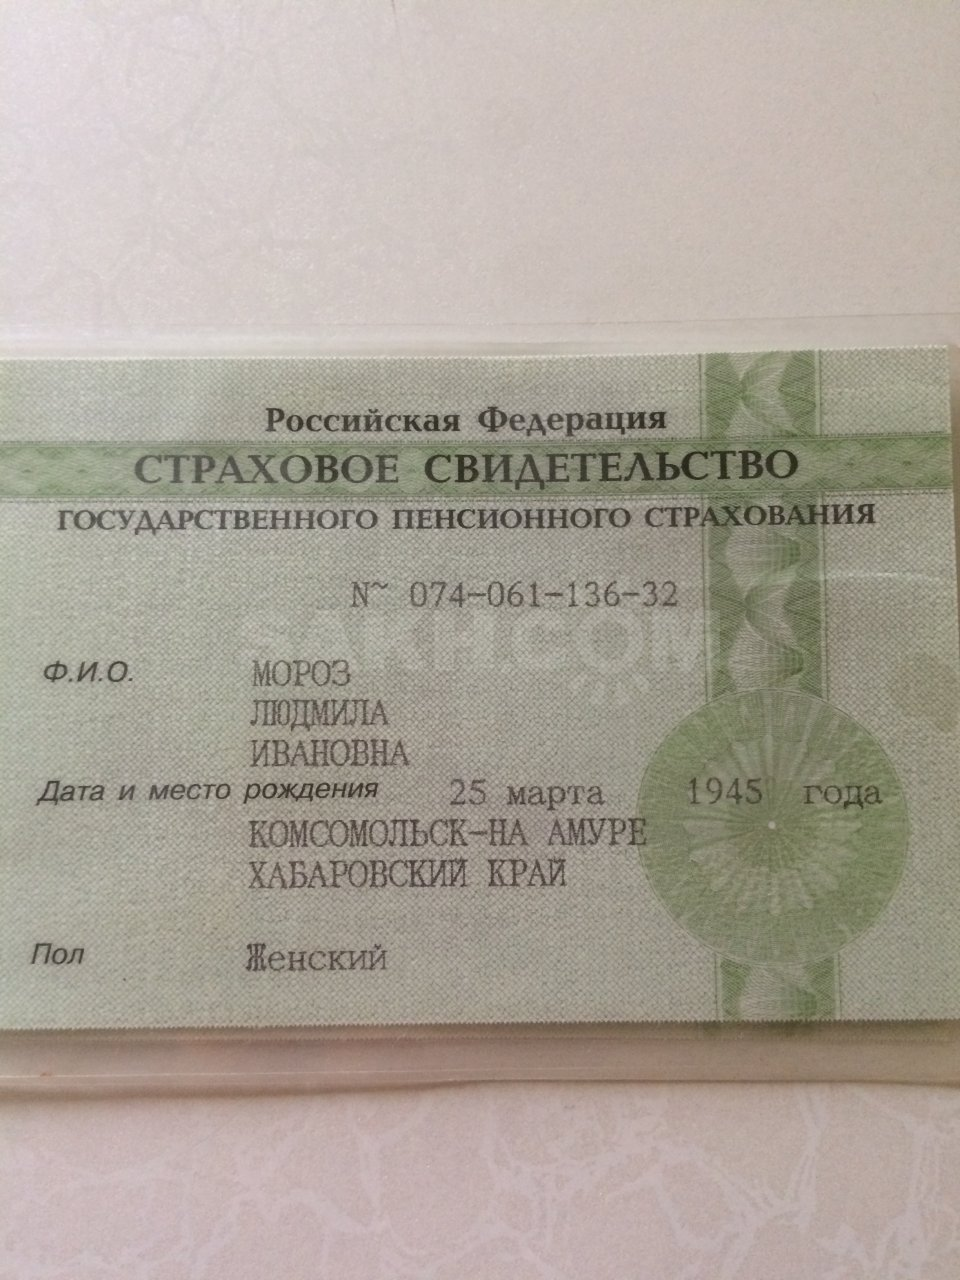text: (239, 810, 658, 892), (449, 769, 895, 812), (404, 561, 691, 614), (239, 727, 415, 775), (239, 933, 408, 979), (244, 688, 393, 733), (245, 651, 356, 691)
